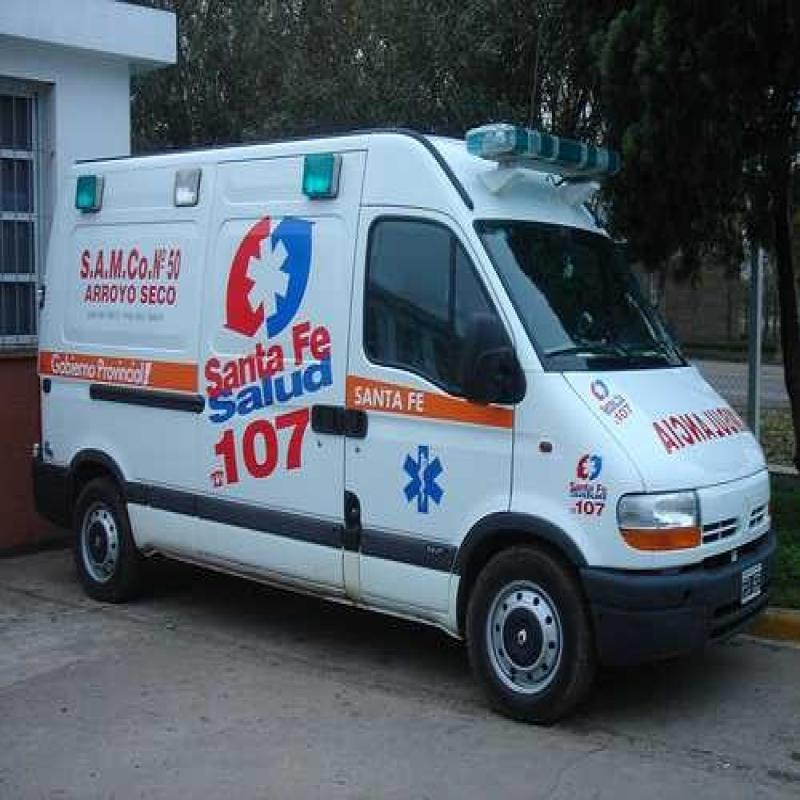AmbulanceSiren: (464, 105, 672, 207)
